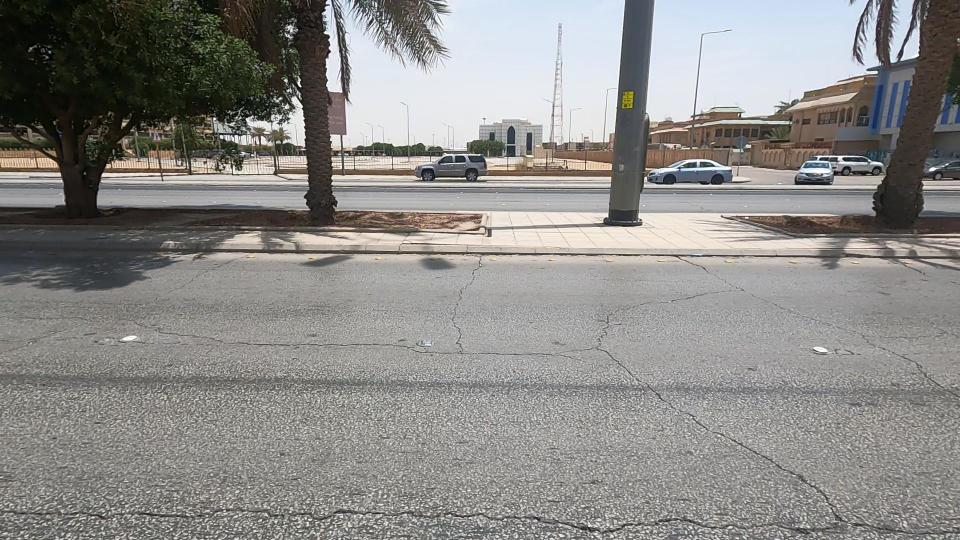CLUTTER_SIDEWALK: (276, 182, 543, 261), (101, 174, 351, 258)
